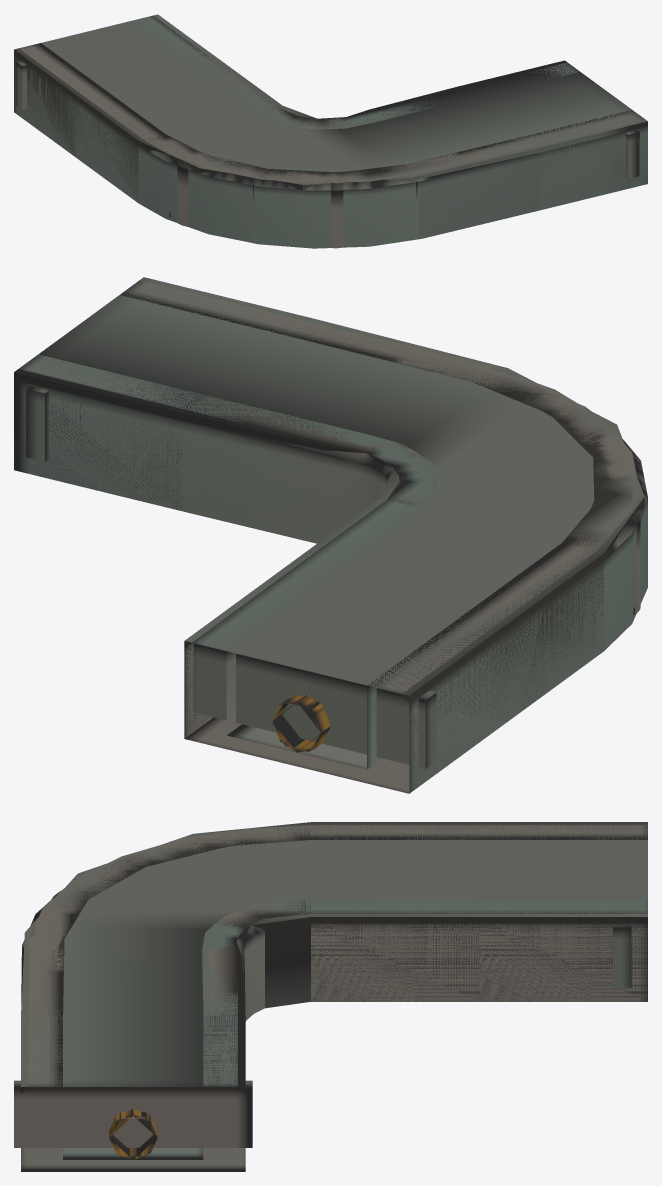
File: place_works_conduit_power_corner.glb
3 renders of one model, top to bottom at view 1: azimuth 30°, elevation 25°; view 2: azimuth 150°, elevation 25°; view 3: azimuth 270°, elevation 25°, orthographic. The views are drawn at different scales.
Visible parts, largest first — view 1: LOD2_Merged_Material_Atlas, LOD0_Merged_Material_Atlas, LOD1_Merged_Material_Atlas; view 2: LOD2_Merged_Material_Atlas, LOD0_Merged_Material_Atlas, LOD1_Merged_Material_Atlas; view 3: LOD2_Merged_Material_Atlas, LOD0_Merged_Material_Atlas, LOD1_Merged_Material_Atlas.
Part boxes in pixels (<box>): LOD2_Merged_Material_Atlas: <box>14,14,647,208</box>; LOD0_Merged_Material_Atlas: <box>14,15,647,248</box>; LOD1_Merged_Material_Atlas: <box>145,108,535,248</box>; LOD2_Merged_Material_Atlas: <box>14,277,644,793</box>; LOD0_Merged_Material_Atlas: <box>14,280,647,793</box>; LOD1_Merged_Material_Atlas: <box>189,322,641,751</box>; LOD2_Merged_Material_Atlas: <box>21,822,647,1159</box>; LOD0_Merged_Material_Atlas: <box>14,825,647,1171</box>; LOD1_Merged_Material_Atlas: <box>23,825,310,1156</box>.
Bounding box in the file's own units: 1.36 × 0.2 × 1.36.
1 material, 1 textured.
